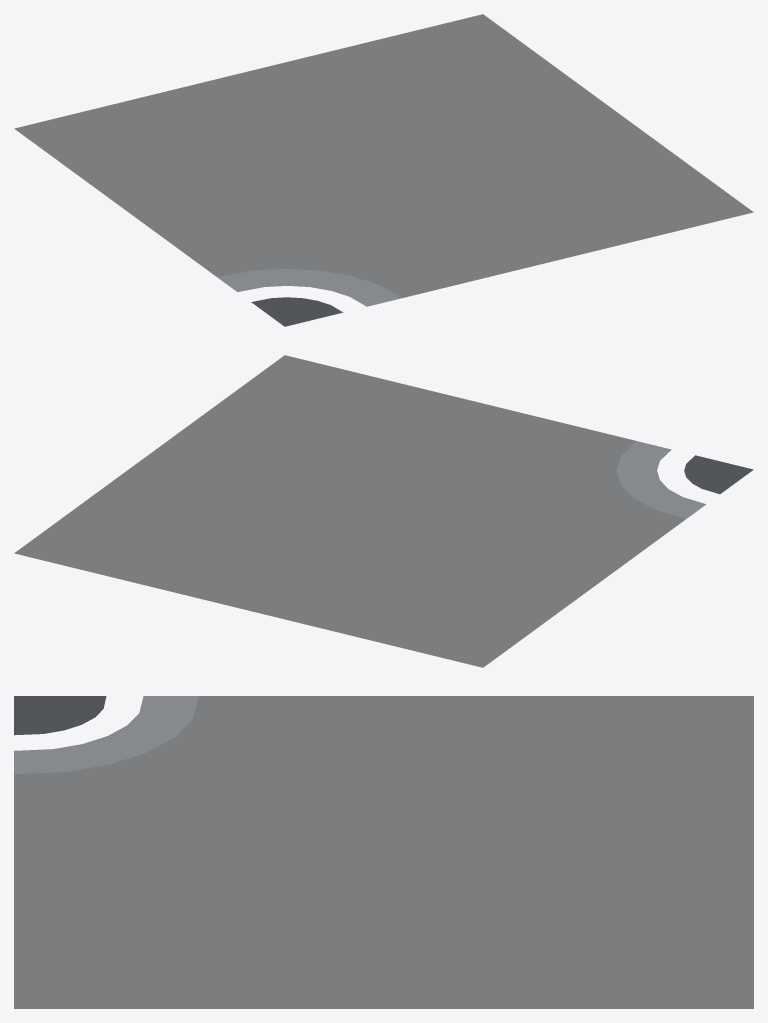
File: Ceiling_type_B_011.glb
3 views of the same model, one above another, from view 1: azimuth 30°, elevation 25°; view 2: azimuth 150°, elevation 25°; view 3: azimuth 270°, elevation 25° (orthographic). The views are drawn at different scales.
Visible parts, largest first — view 1: Ceiling_type_B_011; view 2: Ceiling_type_B_011; view 3: Ceiling_type_B_011.
Part boxes in pixels (x1,y1,x2,y2): Ceiling_type_B_011: (14,14,753,326); Ceiling_type_B_011: (14,355,753,667); Ceiling_type_B_011: (14,696,753,1008).
Size of the model in its own units: 4 by 0.057 by 4.
2 materials, 2 textured.
